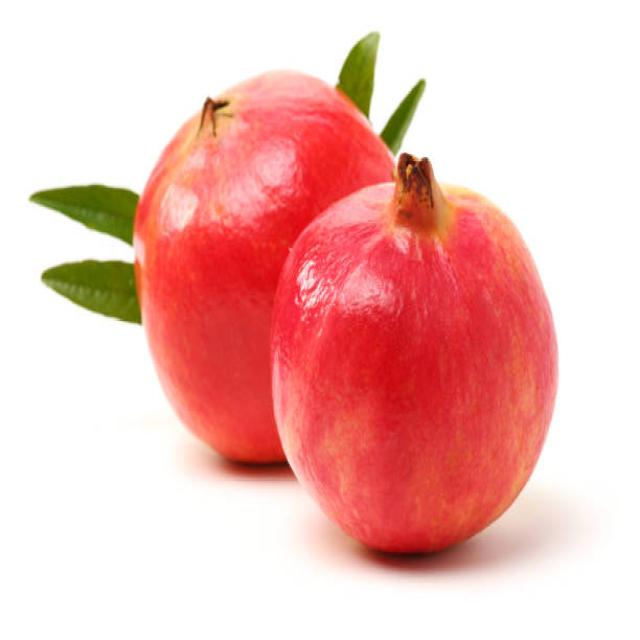Ripe: (264, 147, 560, 561), (132, 62, 277, 466)
